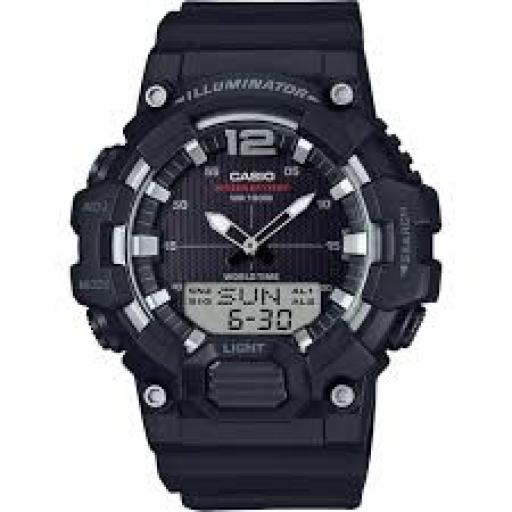KolSaati: (68, 0, 471, 512)
